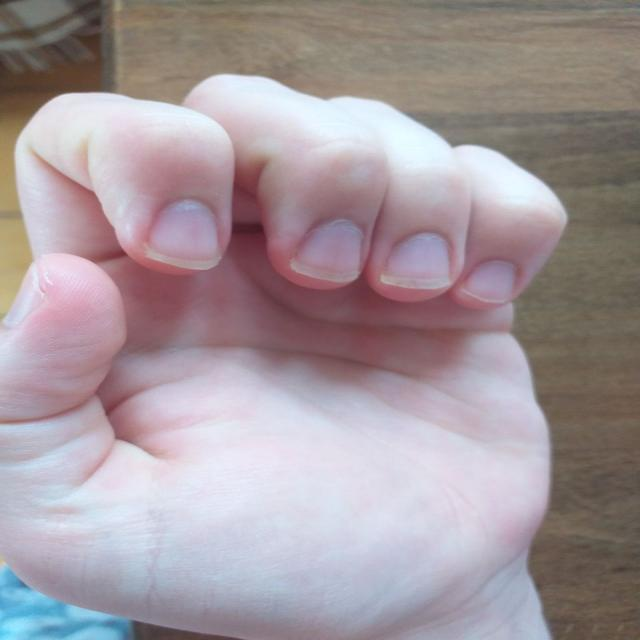Nail: (145, 199, 222, 271), (290, 219, 365, 284), (380, 232, 452, 291), (460, 261, 516, 303), (5, 272, 42, 327)
